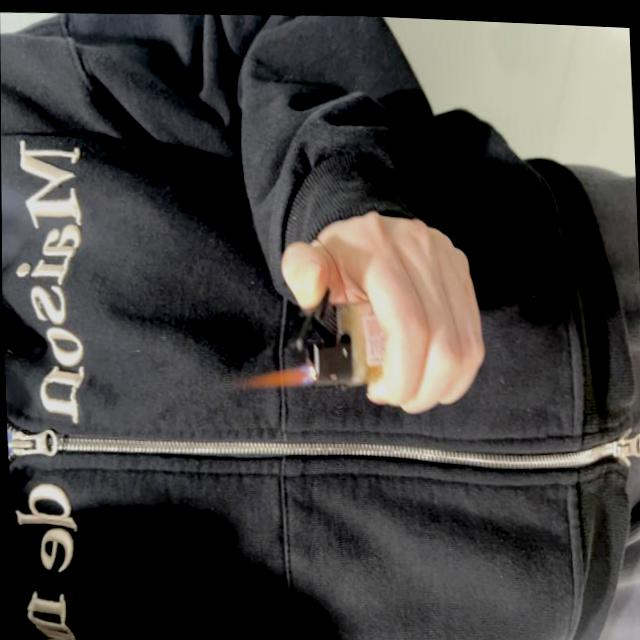Fire: (238, 353, 313, 388)
